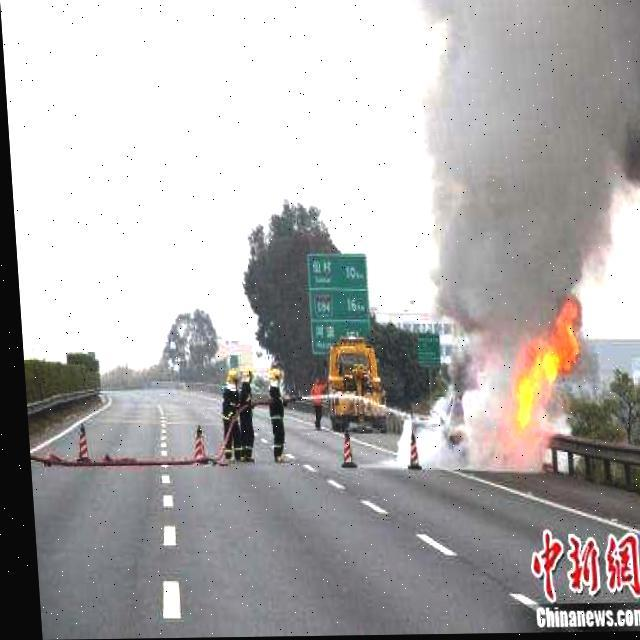Fire: (483, 295, 588, 476)
